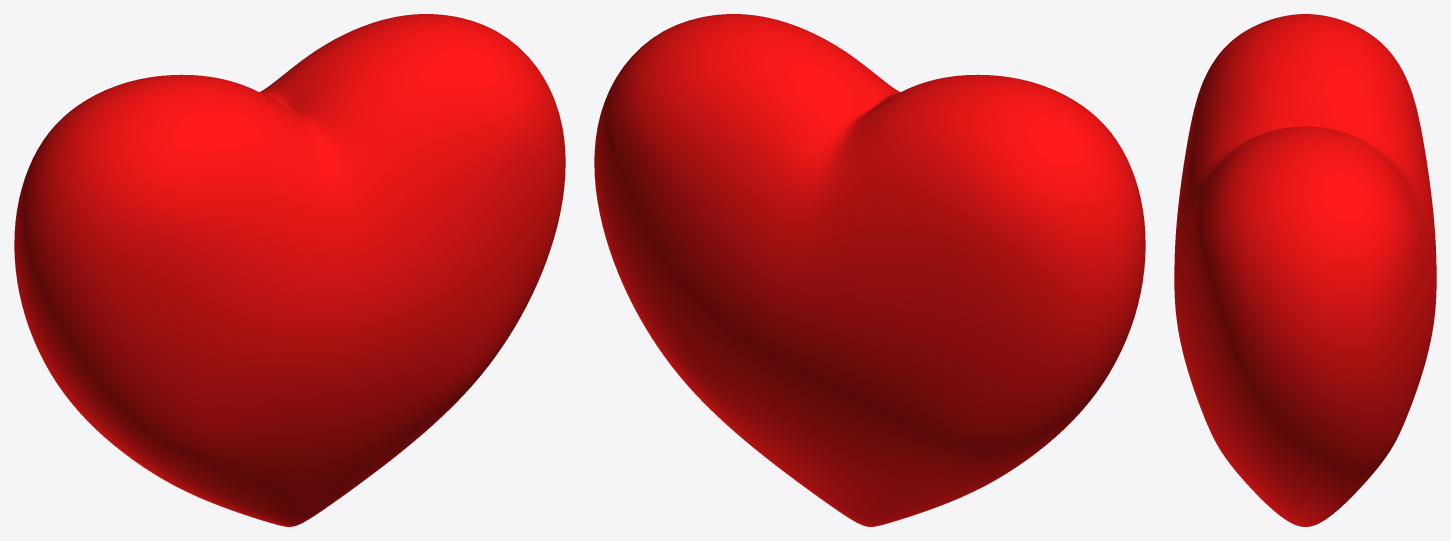
The model's file is heart.glb.
The picture shows the model from 3 angles, left to right: view 1: azimuth 30°, elevation 25°; view 2: azimuth 150°, elevation 25°; view 3: azimuth 270°, elevation 25°; orthographic projection. The views are drawn at different scales.
Parts seen in each view (by area): view 1: Vert; view 2: Vert; view 3: Vert.
Part boxes in pixels (left/top/right/bottom): Vert: left=14, top=14, right=565, bottom=526; Vert: left=594, top=14, right=1145, bottom=526; Vert: left=1174, top=14, right=1436, bottom=526.
Bounding box in the file's own units: 2.77 × 2.36 × 1.28.
